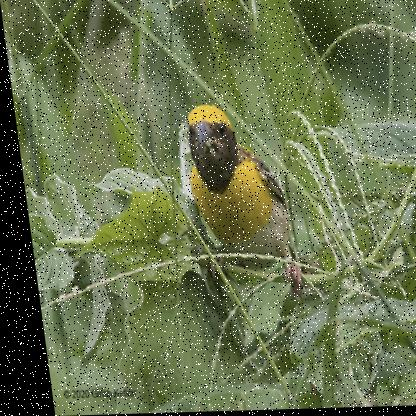Burung: (177, 102, 296, 299)
